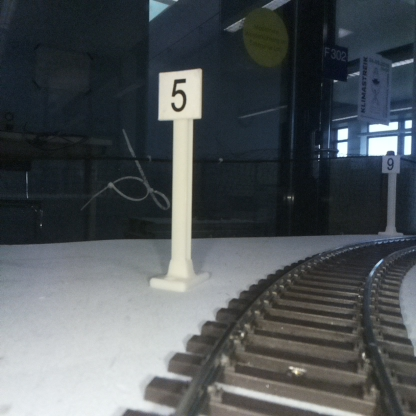white-info-5: (159, 70, 201, 288)
white-info-9: (382, 155, 399, 236)
